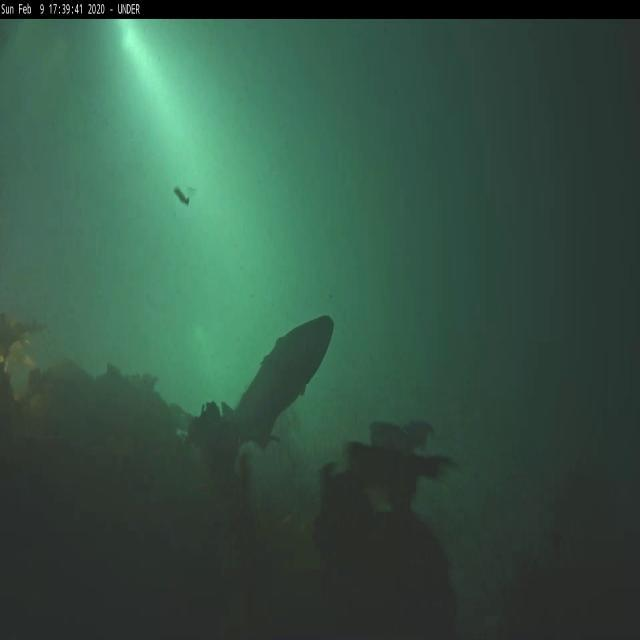fish: (228, 314, 334, 424)
